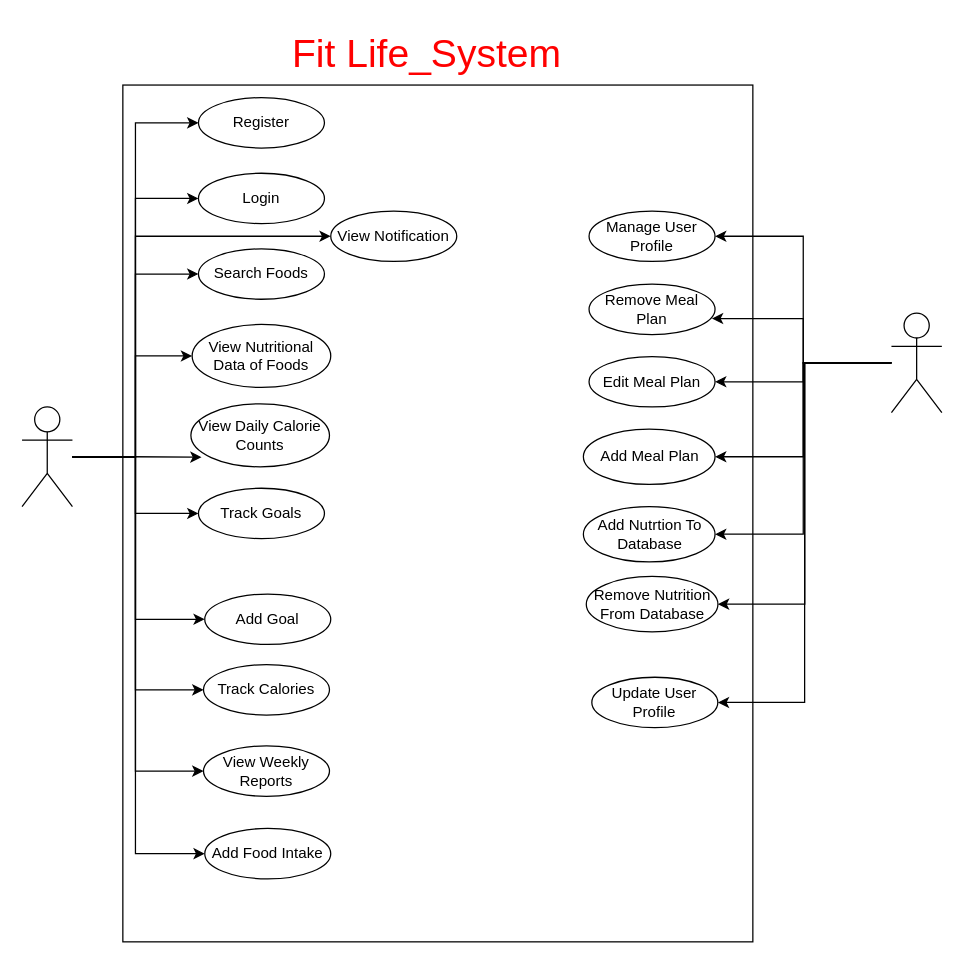
This 964x964 diagram has some shape labels left out. The box of each missing label's shape, as (x1, y1, x2, y2) in pixels:
Admin: (890, 312, 942, 413)
User: (21, 406, 72, 507)
